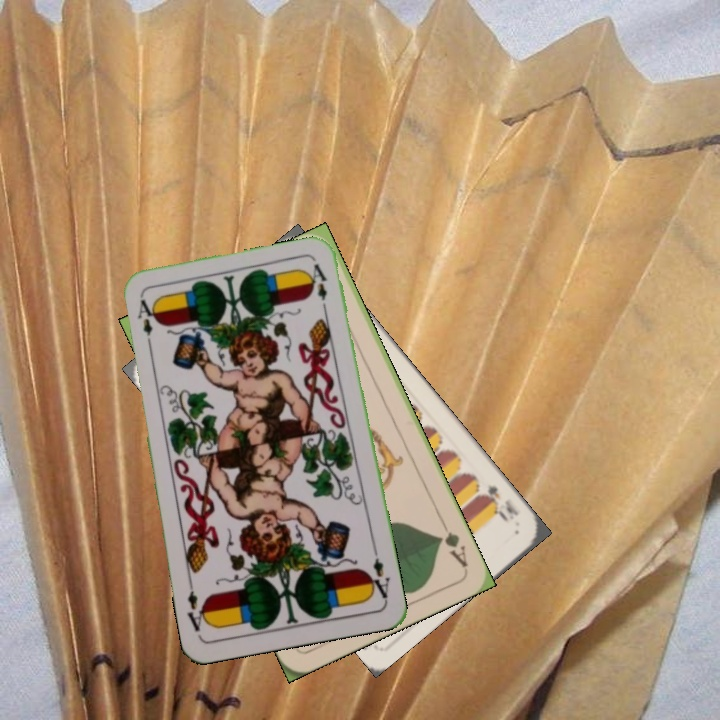E10: (473, 480, 522, 524)
EA: (364, 554, 393, 603), (133, 295, 155, 338)
GA: (434, 515, 471, 570)
